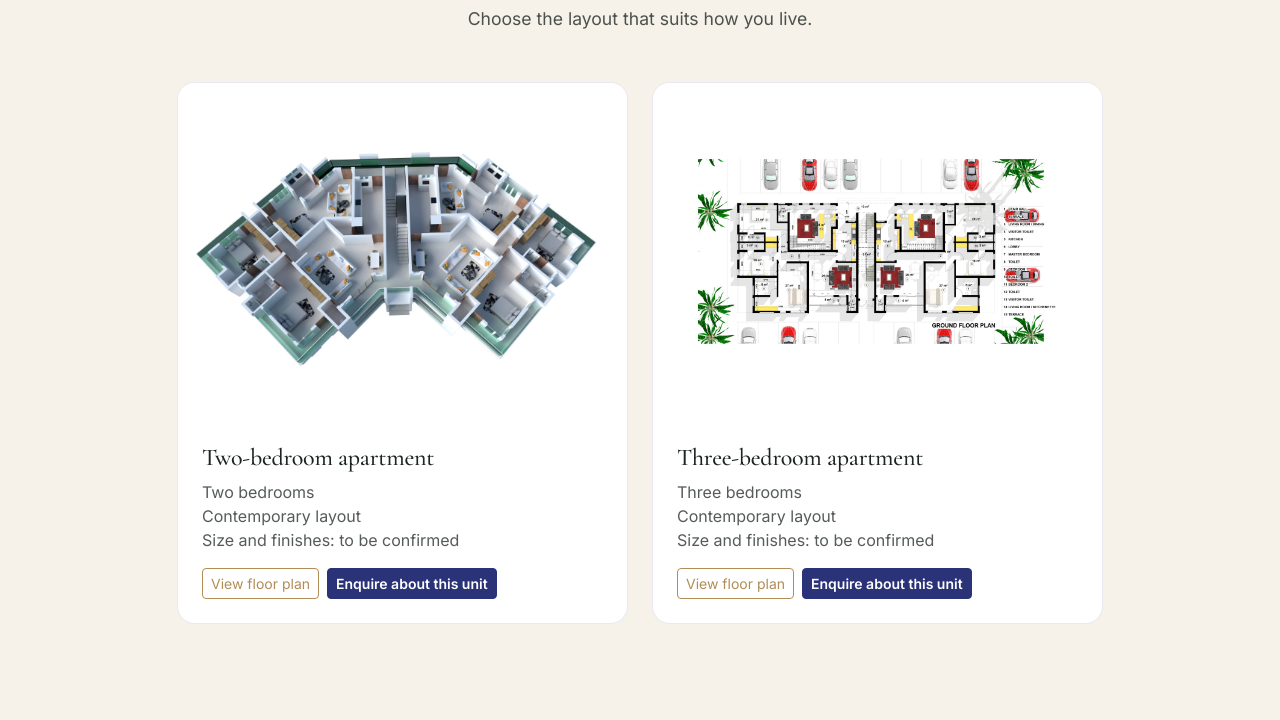
Test: sections › opens and closes the floor plan dialog
(page scrolled)
expect the heading "Two-bedroom apartment" is shown: met, box [202,443,434,472]
expect the heading "Three-bedroom apartment" is shown: met, box [677,443,923,472]
Click the button "View floor plan" below "Two bedrooms": point(260, 584) [202,568,319,599]
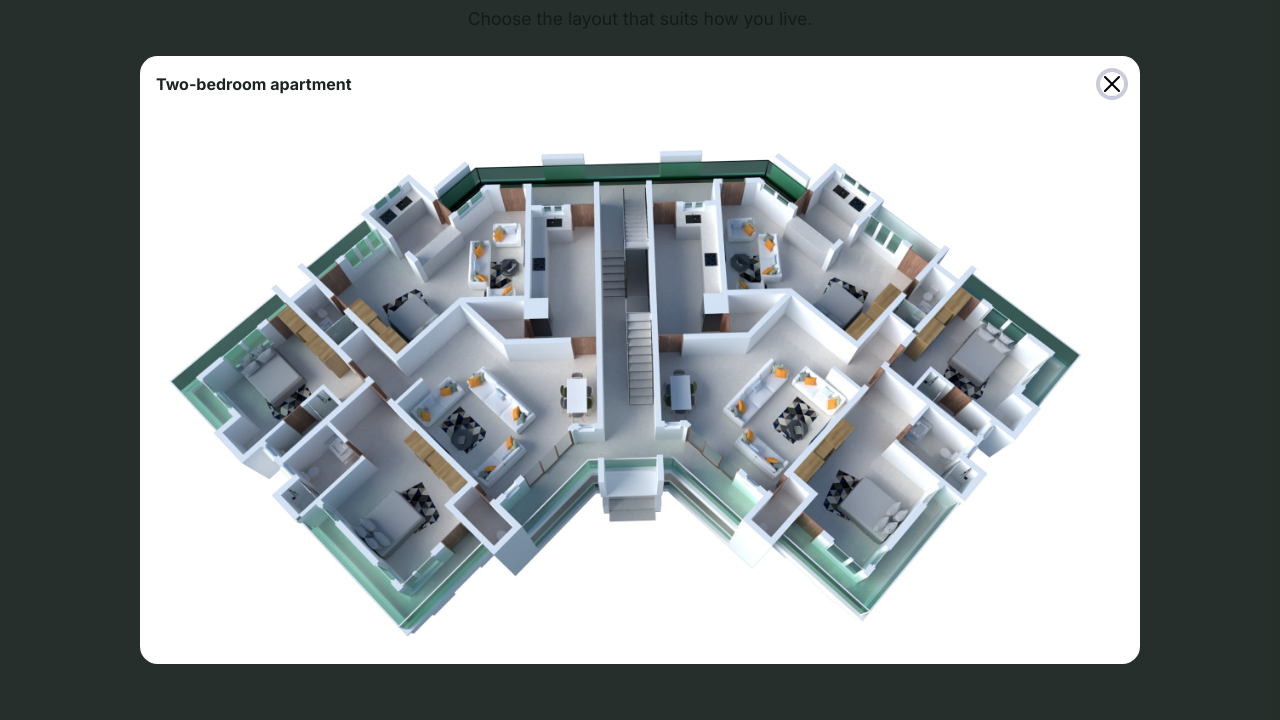
expect the dialog is shown: met
Click the button named "Close floor plan": point(1112, 84) [1100,72,1124,96]
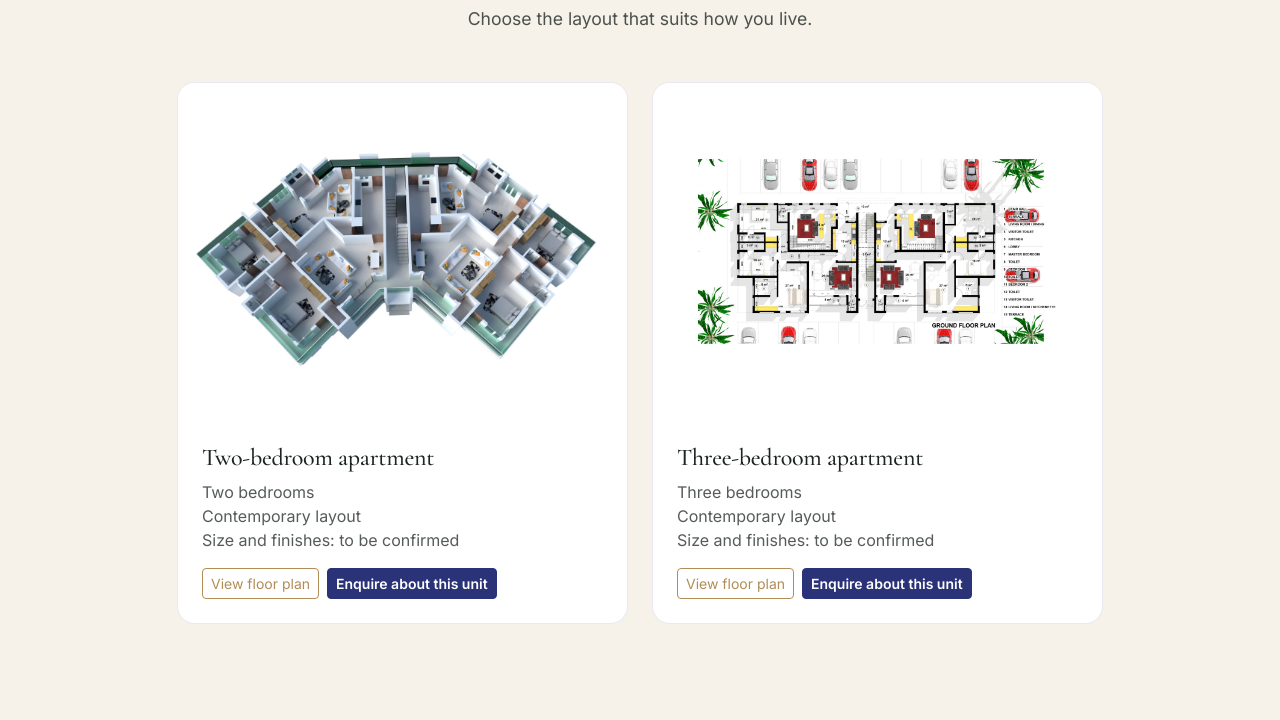
expect the dialog is gone: met
